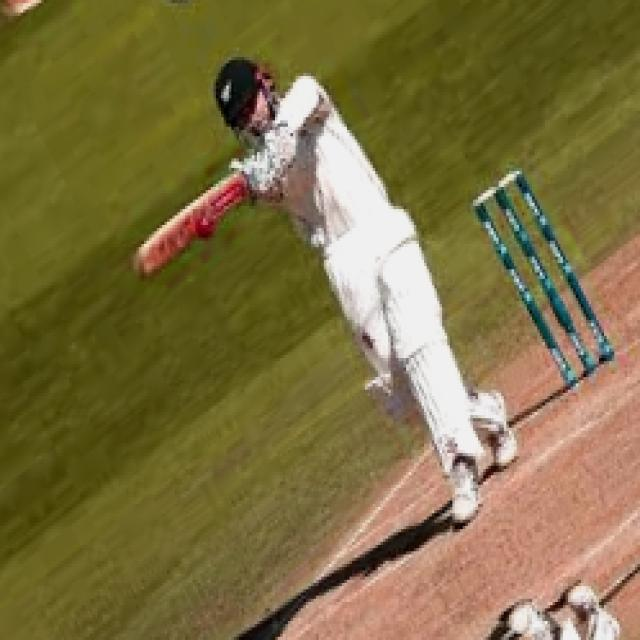toe: (133, 249, 164, 277)
